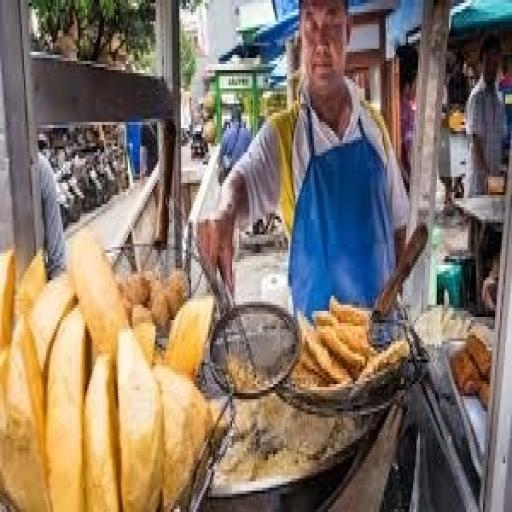eating: (196, 0, 413, 326)
